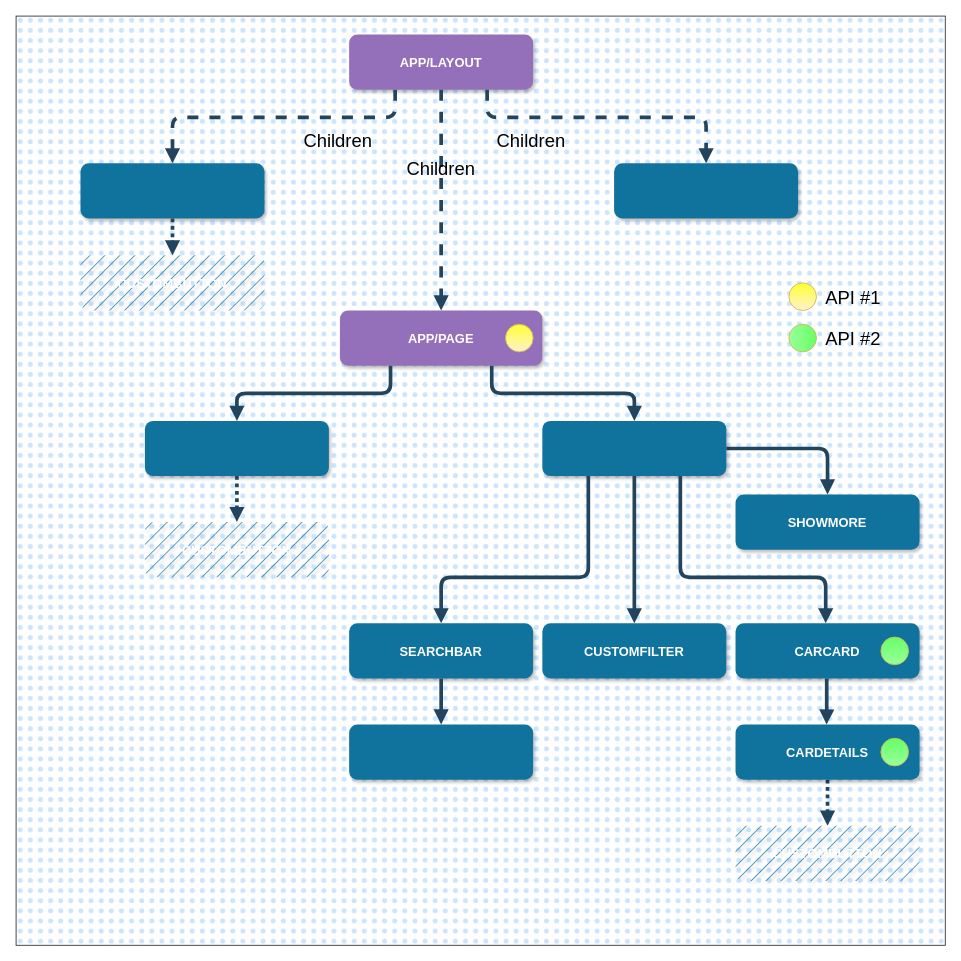
The diagram is 961 pixels wide and 961 high, and some of its shapes have lost their labels. The centre of each missing label's shape, as x and y in pixels:
"CARCATALOGUE" belongs at point 634,449.
"FOOTER" belongs at point 706,191.
"HERO" belongs at point 237,449.
"NAVBAR" belongs at point 173,191.
"SEARCHMANUFACTURER" belongs at point 441,753.
